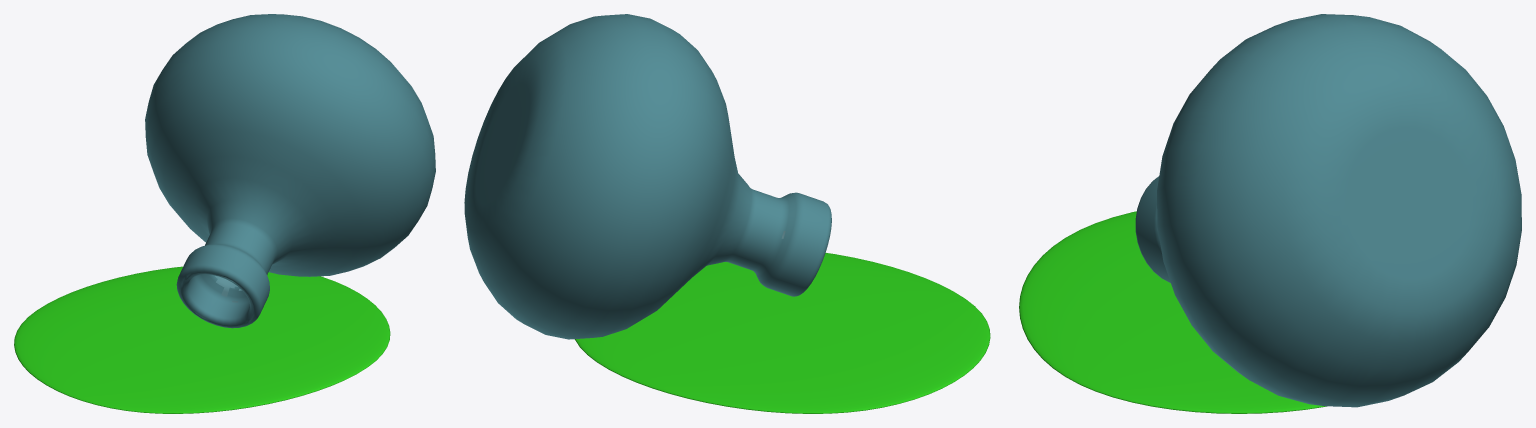
Rendered from poison_1.obj.
The picture shows the model from 3 angles, left to right: view 1: azimuth 30°, elevation 25°; view 2: azimuth 150°, elevation 25°; view 3: azimuth 270°, elevation 25°; orthographic projection. The views are drawn at different scales.
Parts seen in each view (by area): view 1: Sphere, 立方体; view 2: Sphere, 立方体; view 3: Sphere, 立方体.
Part boxes in pixels (bbox=[...]): Sphere: bbox=[145, 14, 435, 328]; 立方体: bbox=[14, 266, 390, 413]; Sphere: bbox=[464, 14, 831, 339]; 立方体: bbox=[575, 253, 990, 413]; Sphere: bbox=[1135, 14, 1521, 407]; 立方体: bbox=[1019, 211, 1326, 413].
Bounding box in the file's own units: 8.81 × 5.64 × 7.18.
